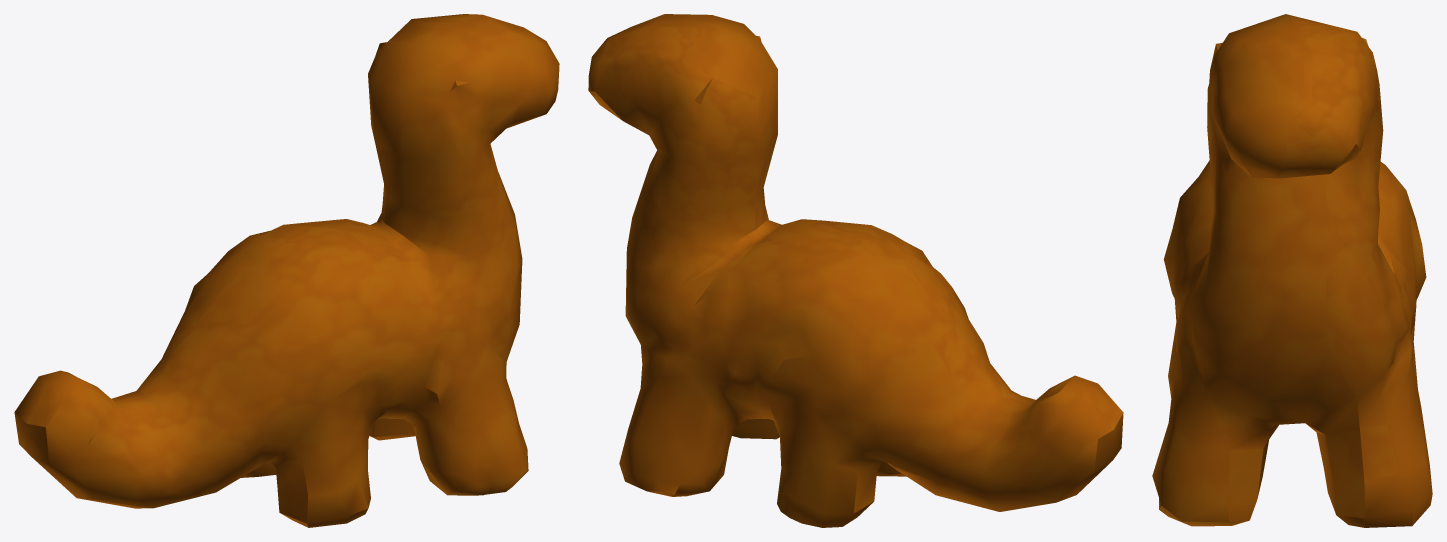
Rendered from DinoNugget.glb.
3 renders of one model, left to right at view 1: azimuth 30°, elevation 25°; view 2: azimuth 150°, elevation 25°; view 3: azimuth 270°, elevation 25°, orthographic. The views are drawn at different scales.
Visible parts, largest first — view 1: geometry_0; view 2: geometry_0; view 3: geometry_0.
Part boxes in pixels (x1=…): geometry_0: x1=14, y1=14, x2=559, y2=527; geometry_0: x1=588, y1=14, x2=1123, y2=527; geometry_0: x1=1152, y1=14, x2=1432, y2=527.
Bounding box in the file's own units: 0.9692 × 0.7659 × 0.3943.
1 material, 1 textured.
